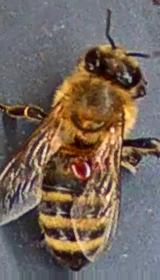varroa_mite: (65, 152, 96, 184)
